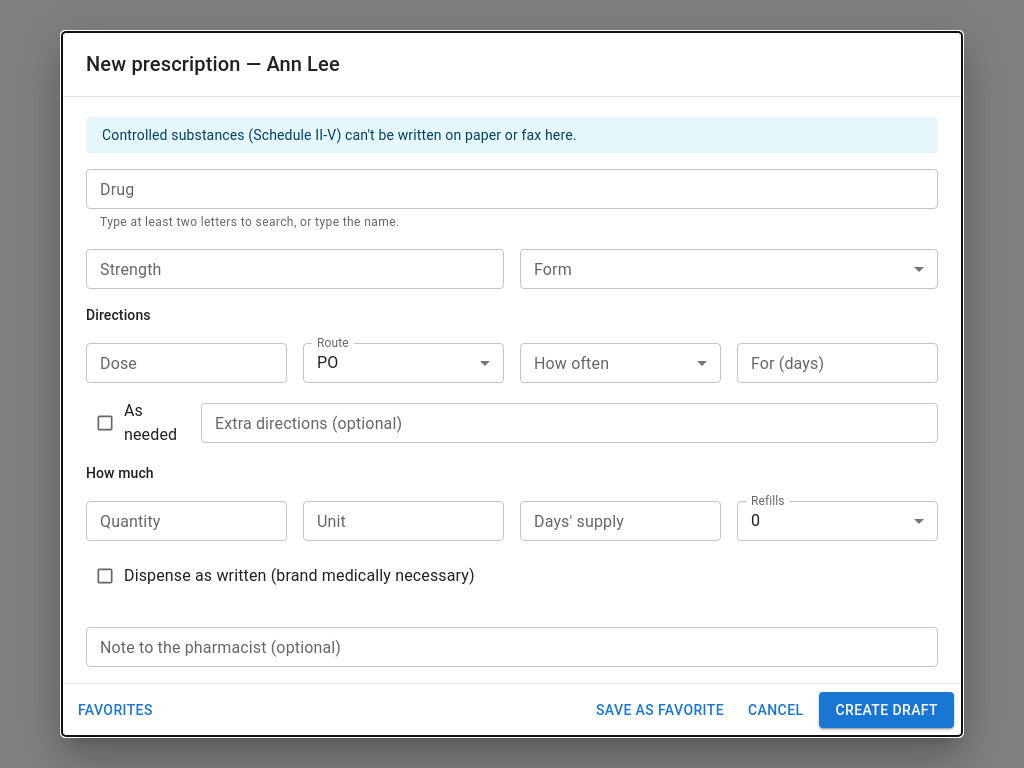
Test: writer form › a controlled drug in the search can't be picked
The image size is (1024, 768).
Type "oxyc" into the dropdown with test id "rx-drug" at x=510, y=189, box [92, 175, 929, 203]
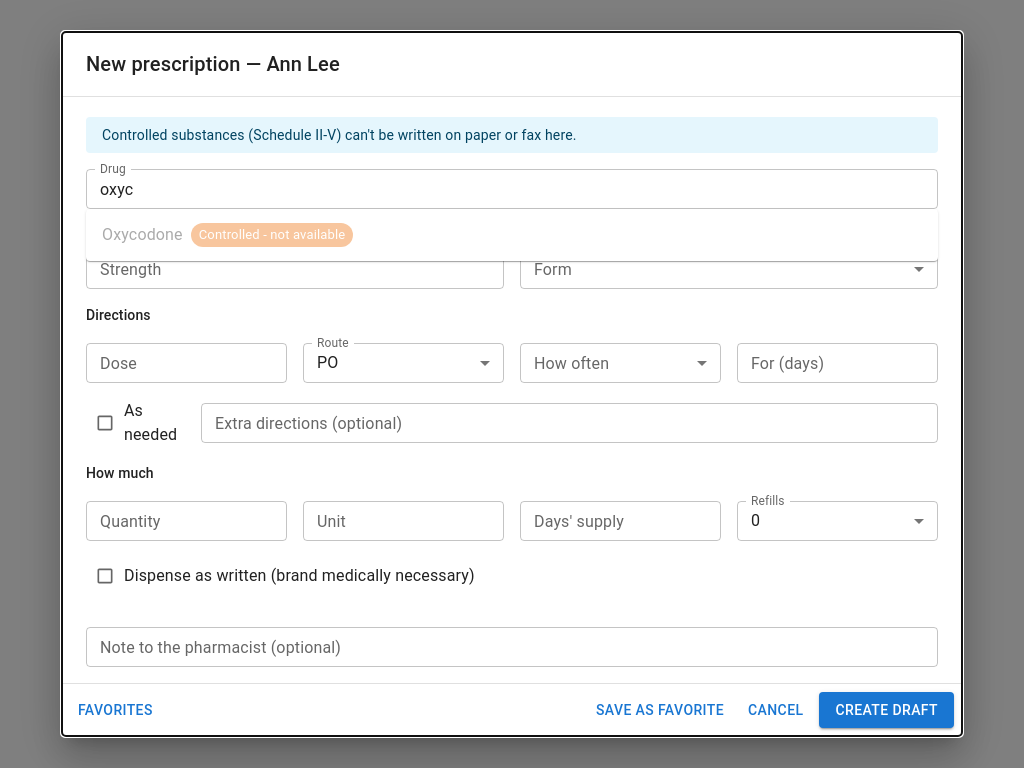
Expected: the option "Oxycodone Controlled - not available" is shown, [102, 223, 353, 247]
